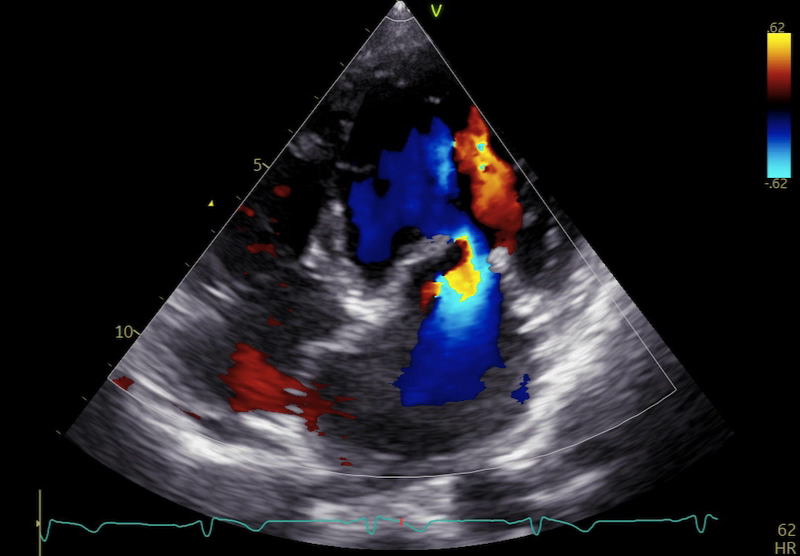MR: (377, 221, 501, 332)
